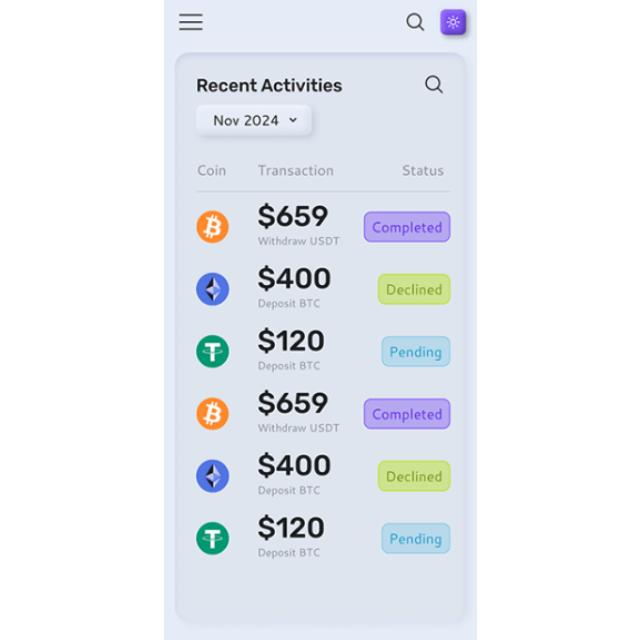VCard: (173, 50, 467, 624)
VCombobox: (194, 104, 312, 138)
VDataTable: (188, 155, 458, 563)
VIcon: (194, 78, 342, 94), (174, 11, 203, 34), (423, 75, 443, 95), (405, 13, 425, 32), (445, 16, 459, 30)
